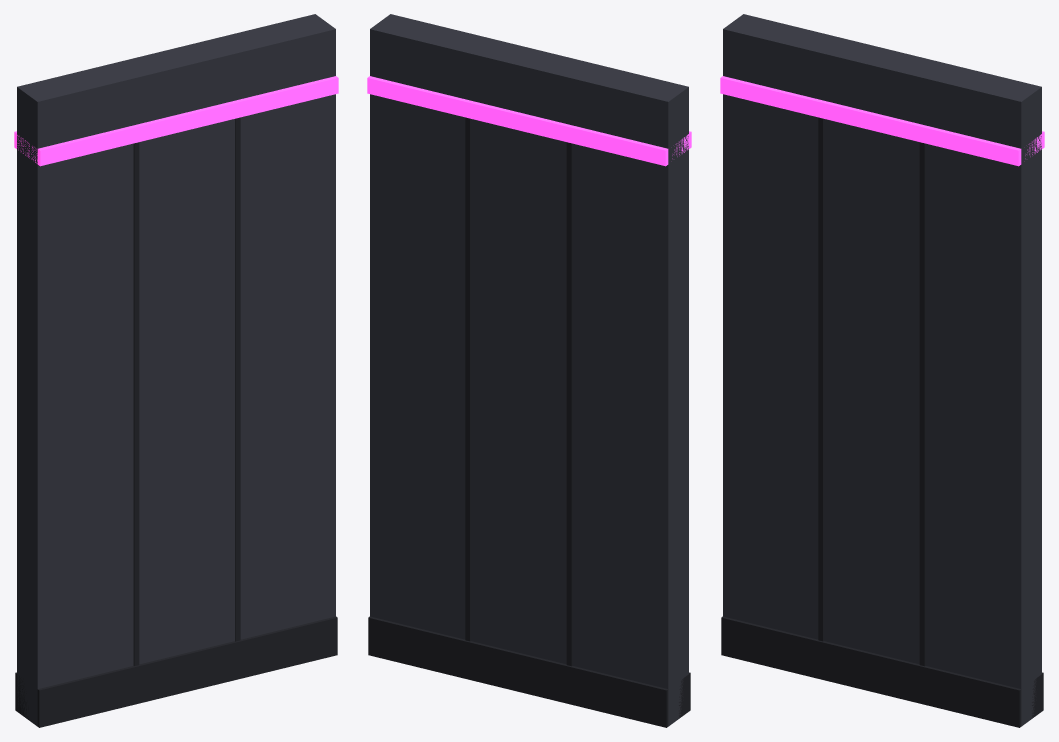
The model's file is cyb-concreto-rosa.gltf.
3 renders of one model, left to right at view 1: azimuth 30°, elevation 25°; view 2: azimuth 150°, elevation 25°; view 3: azimuth 330°, elevation 25°, orthographic.
Parts seen in each view (by area): view 1: cyb-concreto-rosa; view 2: cyb-concreto-rosa; view 3: cyb-concreto-rosa.
Part boxes in pixels (bbox=[...]): cyb-concreto-rosa: bbox=[14, 14, 338, 727]; cyb-concreto-rosa: bbox=[367, 14, 691, 727]; cyb-concreto-rosa: bbox=[720, 14, 1044, 727].
Bounding box in the file's own units: 1 × 2 × 0.15.
